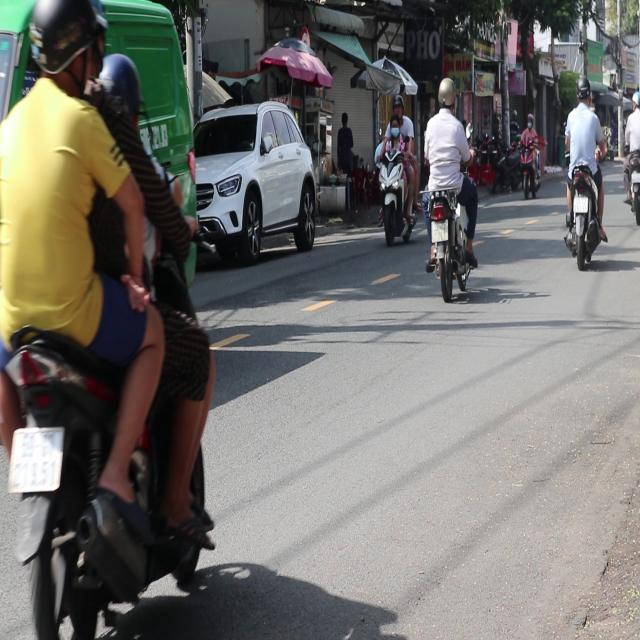helmet: (27, 0, 107, 100), (94, 50, 142, 142), (436, 76, 456, 111), (574, 75, 590, 105), (392, 92, 404, 116)
licenseplate: (0, 4, 222, 635), (420, 74, 480, 300), (561, 75, 608, 266), (374, 92, 418, 245)
motorcyclist: (389, 115, 401, 139)
nohelmet: (9, 427, 62, 489), (431, 221, 447, 242), (573, 196, 588, 213)
